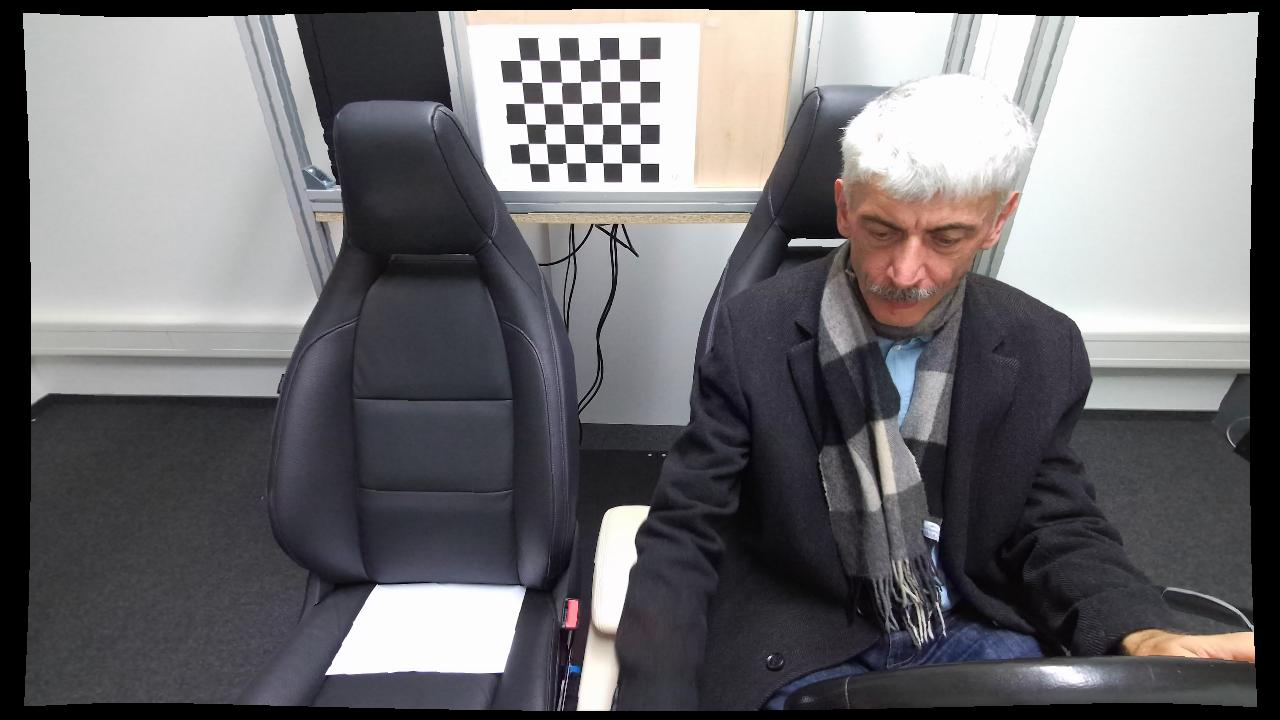Distracted: (615, 72, 1103, 707)
